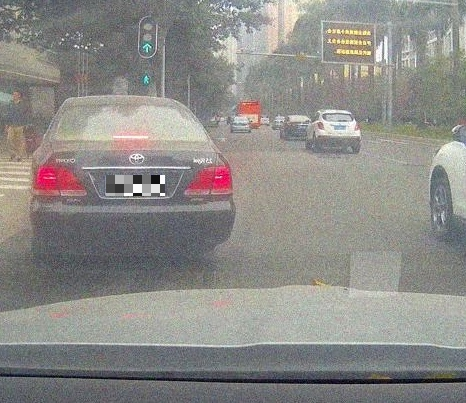L_light: (31, 166, 86, 196), (317, 122, 325, 131)
R_light: (185, 166, 234, 195), (354, 122, 360, 131)
T_light: (112, 134, 150, 140), (333, 113, 341, 116)
day-brake: (29, 95, 237, 266)
day-no: (317, 109, 362, 153)
plate_1: (106, 175, 165, 196)
